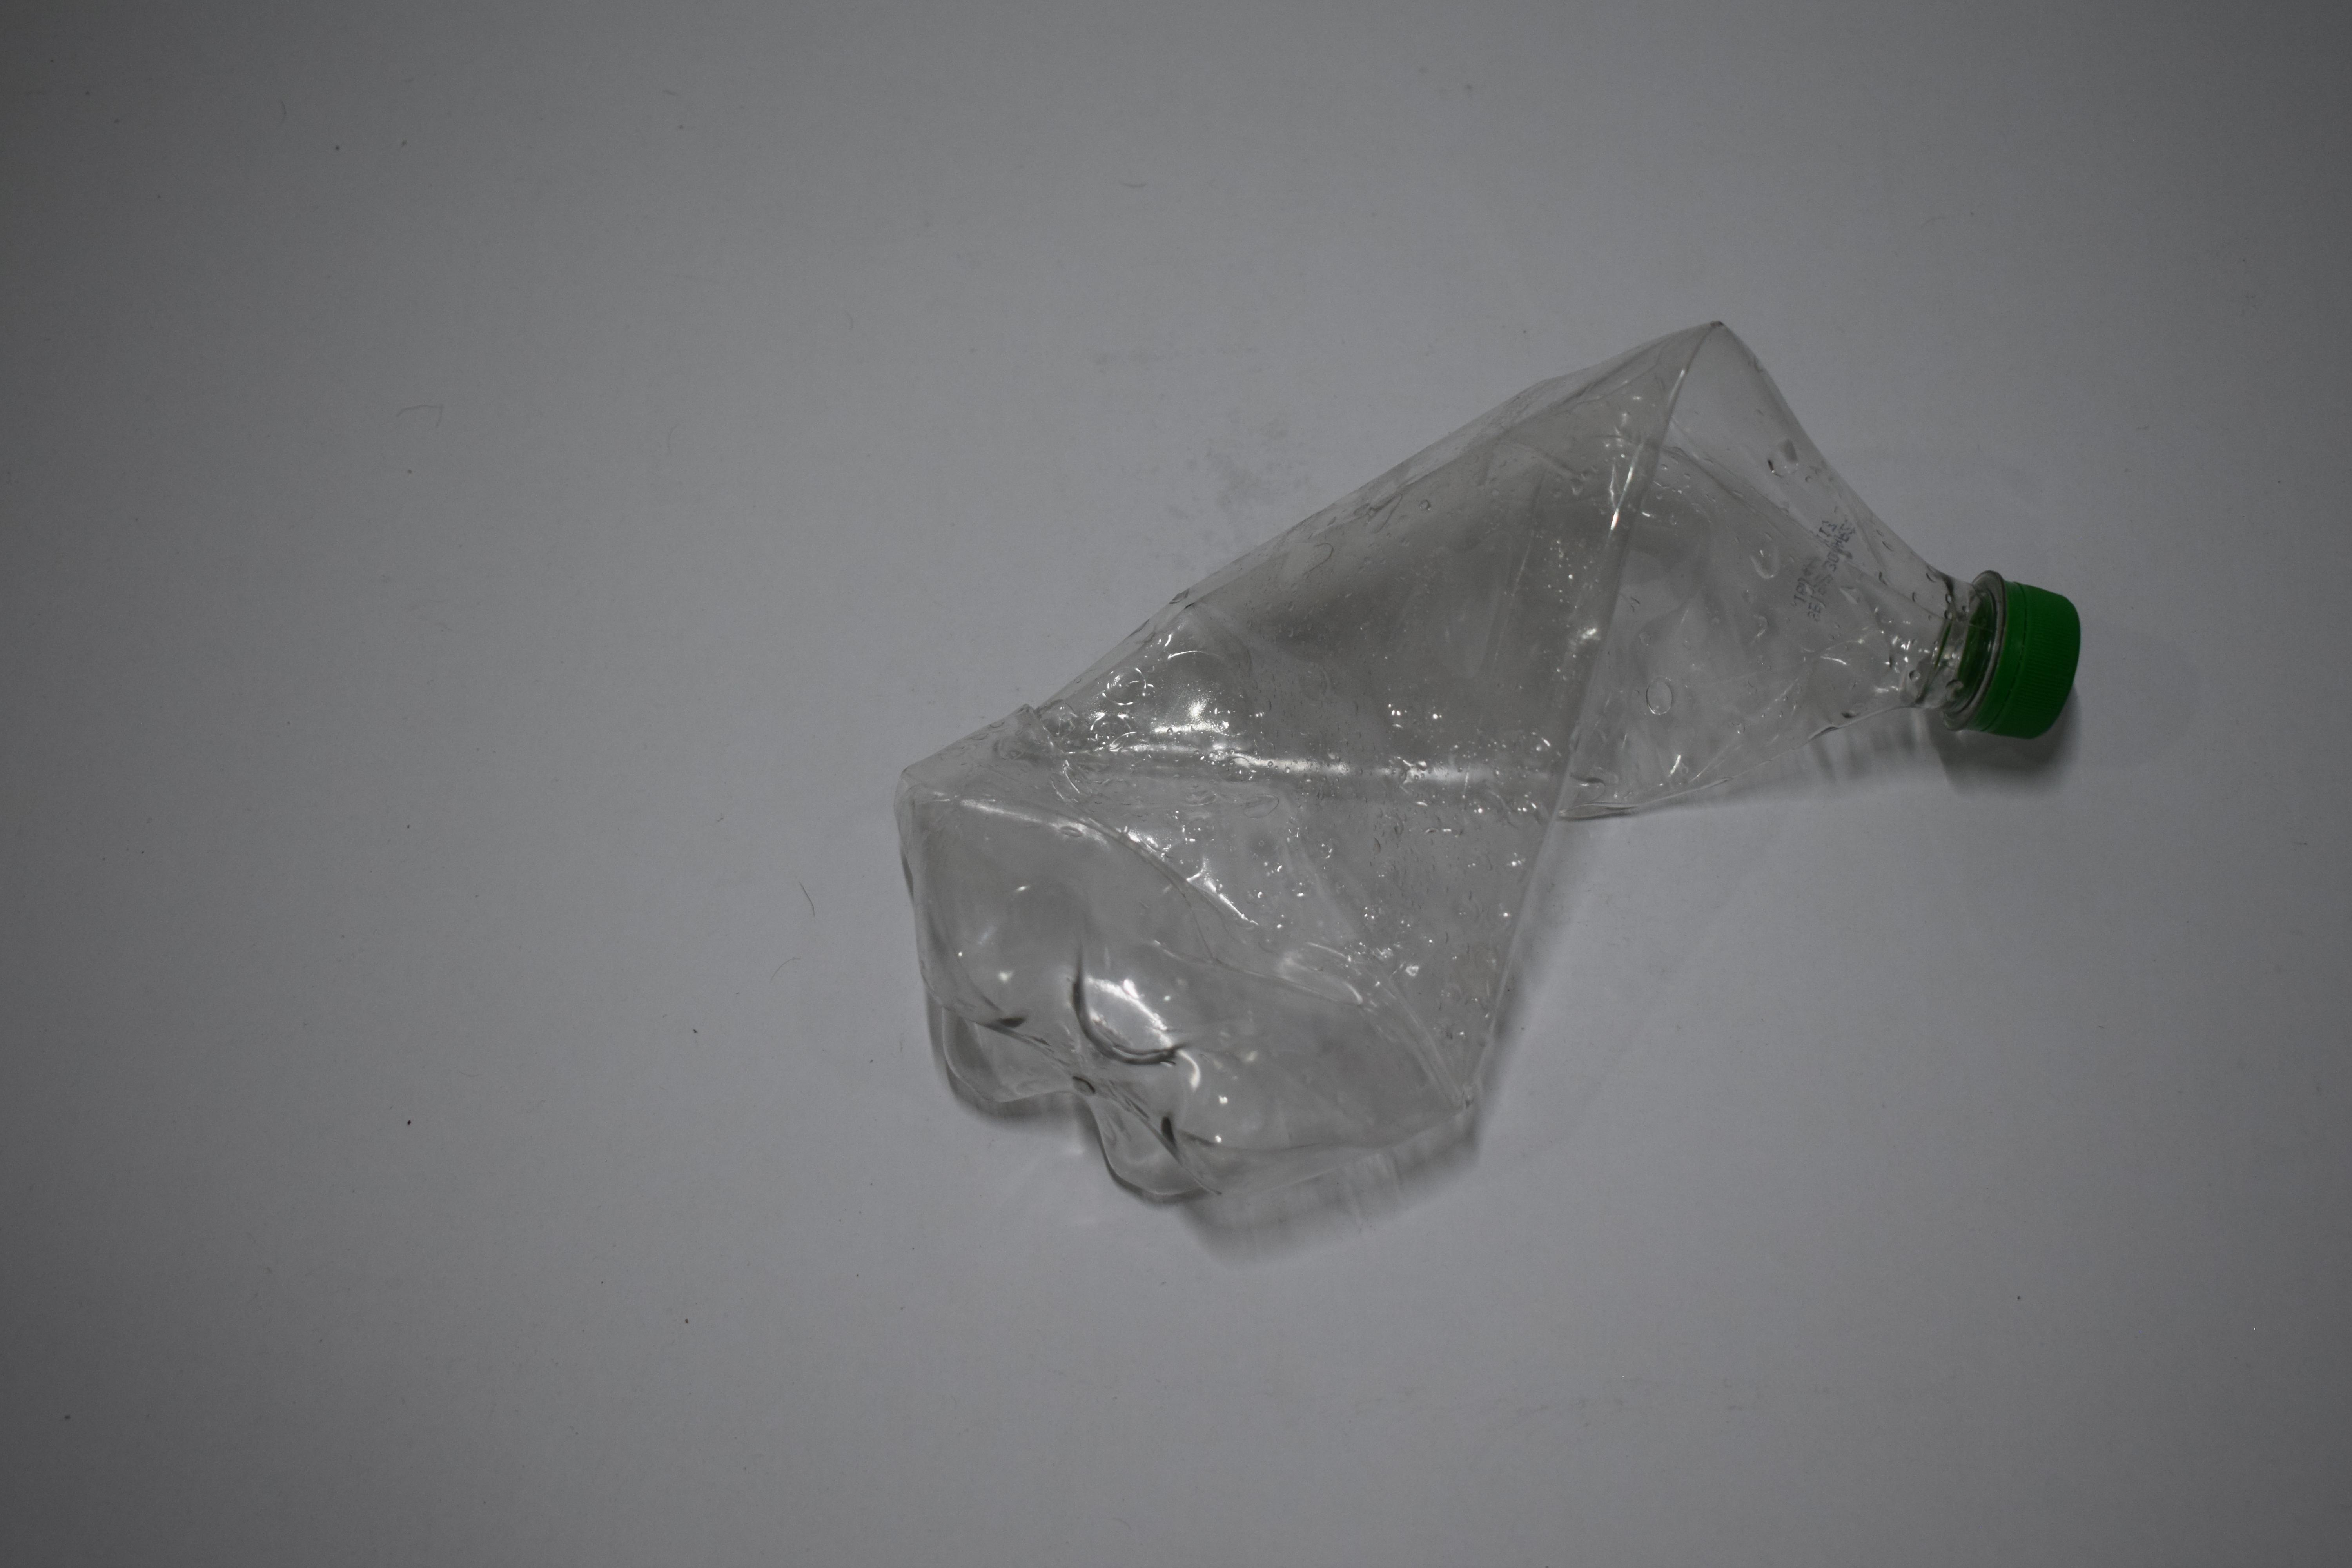bottle: (1472, 702, 1496, 810)
